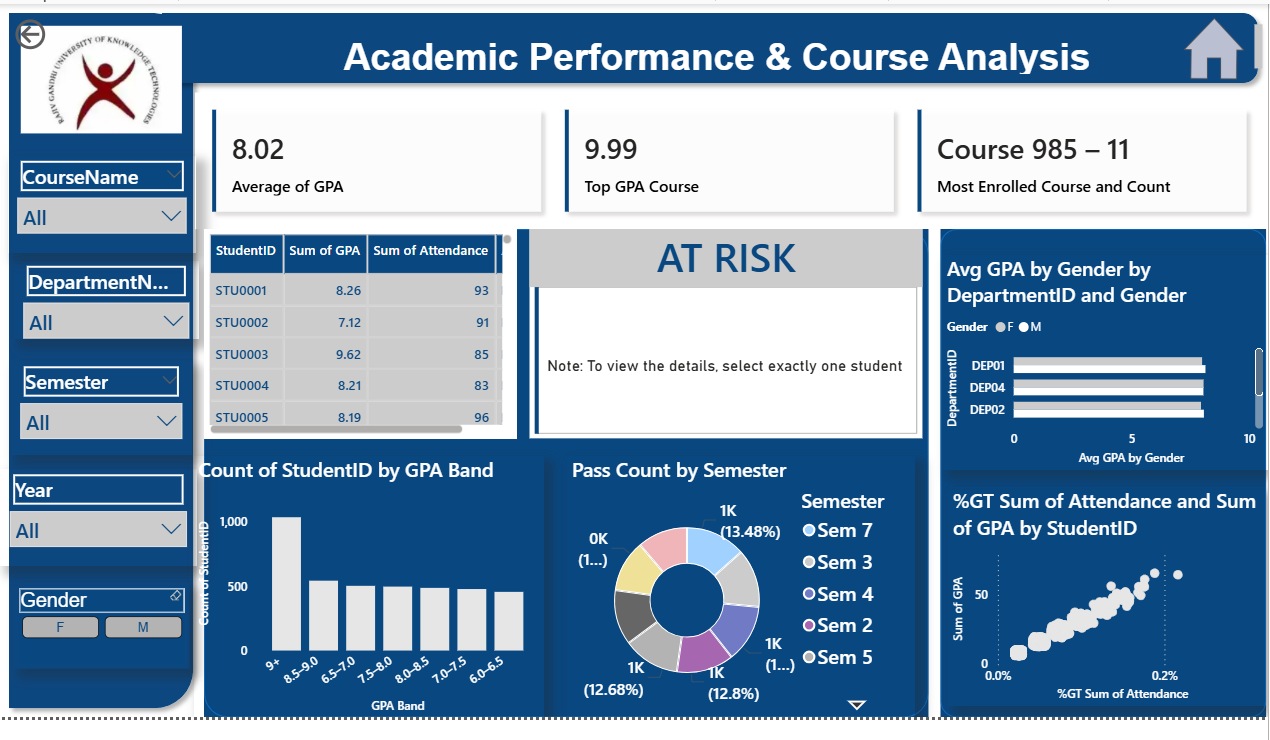

Layout of this report page (visuals, bound fields, positions):
{"tool":"powerbi","page":{"name":"academicperformance&course","canvas":[1280,720],"ordinal":7},"visuals":[{"type":"shape","box":[0,0,204.1,720],"z":0},{"type":"shape","box":[155,0,1124.4,88.8],"z":1000},{"type":"image","box":[13.2,17,177.6,119.1],"z":2000},{"type":"textbox","box":[175.7,15.1,1103.6,60.5],"z":3000},{"type":"cardVisual","fields":{"Data":["Avg(Student.GPA)","academic&coursemeasures.Top GPA Course","academic&coursemeasures.Most Enrolled Course and Count"]},"box":[196.5,88.8,1081,138],"z":4000},{"type":"shape","box":[206,226.8,731.3,493.2],"z":5000},{"type":"donutChart","fields":{"Y":["academic&coursemeasures.Pass Count"],"Category":["StudentGrades.Semester"]},"box":[572.6,455.4,351.5,264.6],"z":6000},{"type":"slicer","fields":{"Values":["Courses.CourseName"]},"box":[7.6,153.1,190.9,98.3],"z":7000},{"type":"slicer","fields":{"Values":["Student.Year"]},"box":[0,468.7,198.4,98.3],"z":8000},{"type":"slicer","fields":{"Values":["StudentGrades.Semester"]},"box":[11.3,360.9,183.3,94.5],"z":9000},{"type":"slicer","fields":{"Values":["Department.DepartmentName"]},"box":[13.2,258.9,187.1,79.4],"z":10000},{"type":"actionButton","box":[10,10,100,40],"z":11000},{"type":"ChicletSlicer1448559807354","fields":{"Category":["Student.Gender"]},"box":[13.2,583.9,177.6,86.9],"z":12000},{"type":"lineClusteredColumnComboChart","fields":{"Category":["StudentGrades.GPA Band"],"Y":["CountNonNull(StudentGrades.StudentID)"]},"box":[194.6,455.4,353.4,264.6],"z":13000},{"type":"tableEx","fields":{"Values":["Student.StudentID","Sum(Student.GPA)","Sum(Student.Attendance)","Student.At Risk"]},"box":[206,226.8,315.6,211.7],"z":14000},{"type":"shape","box":[948.7,226.8,328.8,493.2],"z":15000},{"type":"clusteredBarChart","fields":{"Category":["Student.DepartmentID"],"Y":["academic&coursemeasures.Avg GPA by Gender"],"Series":["Student.Gender"]},"box":[950.6,253.2,328.8,217.3],"z":16000},{"type":"scatterChart","fields":{"X":["Sum(StudentGrades.Attendance)"],"Y":["Sum(StudentGrades.GPA)"],"Category":["StudentGrades.StudentID"]},"box":[956.2,487.6,321.3,221.1],"z":17000},{"type":"cardVisual","fields":{"Data":["Min(Student.At Risk)"]},"box":[534.8,226.8,396.9,211.7],"z":18000},{"type":"cardVisual","title":"AT RISK","fields":{"Data":["academic&coursemeasures.Display Message"]},"box":[534.8,226.8,396.9,211.7],"z":19000},{"type":"image","box":[1173.6,7.6,103.9,75.6],"z":20000}]}

Visuals, with their boxes on the page's 1280x720 design canvas (x1, y1, x2, y2). These are canvas units, not pixel positions in the 1270x740 screenshot, which may show the page scaled, cropped or inside an application window:
shape: {"x1": 0, "y1": 0, "x2": 204, "y2": 720}
shape: {"x1": 155, "y1": 0, "x2": 1279, "y2": 89}
image: {"x1": 13, "y1": 17, "x2": 191, "y2": 136}
textbox: {"x1": 176, "y1": 15, "x2": 1279, "y2": 76}
cardVisual - Avg(Student.GPA) x academic&coursemeasures.Top GPA Course: {"x1": 196, "y1": 89, "x2": 1278, "y2": 227}
shape: {"x1": 206, "y1": 227, "x2": 937, "y2": 720}
donutChart - academic&coursemeasures.Pass Count x StudentGrades.Semester: {"x1": 573, "y1": 455, "x2": 924, "y2": 720}
slicer - Courses.CourseName: {"x1": 8, "y1": 153, "x2": 198, "y2": 251}
slicer - Student.Year: {"x1": 0, "y1": 469, "x2": 198, "y2": 567}
slicer - StudentGrades.Semester: {"x1": 11, "y1": 361, "x2": 195, "y2": 455}
slicer - Department.DepartmentName: {"x1": 13, "y1": 259, "x2": 200, "y2": 338}
actionButton: {"x1": 10, "y1": 10, "x2": 110, "y2": 50}
ChicletSlicer1448559807354 - Student.Gender: {"x1": 13, "y1": 584, "x2": 191, "y2": 671}
lineClusteredColumnComboChart - StudentGrades.GPA Band x CountNonNull(StudentGrades.StudentID): {"x1": 195, "y1": 455, "x2": 548, "y2": 720}
tableEx - Student.StudentID x Sum(Student.GPA): {"x1": 206, "y1": 227, "x2": 522, "y2": 438}
shape: {"x1": 949, "y1": 227, "x2": 1278, "y2": 720}
clusteredBarChart - Student.DepartmentID x academic&coursemeasures.Avg GPA by Gender: {"x1": 951, "y1": 253, "x2": 1279, "y2": 470}
scatterChart - Sum(StudentGrades.Attendance) x Sum(StudentGrades.GPA): {"x1": 956, "y1": 488, "x2": 1278, "y2": 709}
cardVisual - Min(Student.At Risk): {"x1": 535, "y1": 227, "x2": 932, "y2": 438}
"AT RISK" cardVisual: {"x1": 535, "y1": 227, "x2": 932, "y2": 438}
image: {"x1": 1174, "y1": 8, "x2": 1278, "y2": 83}
